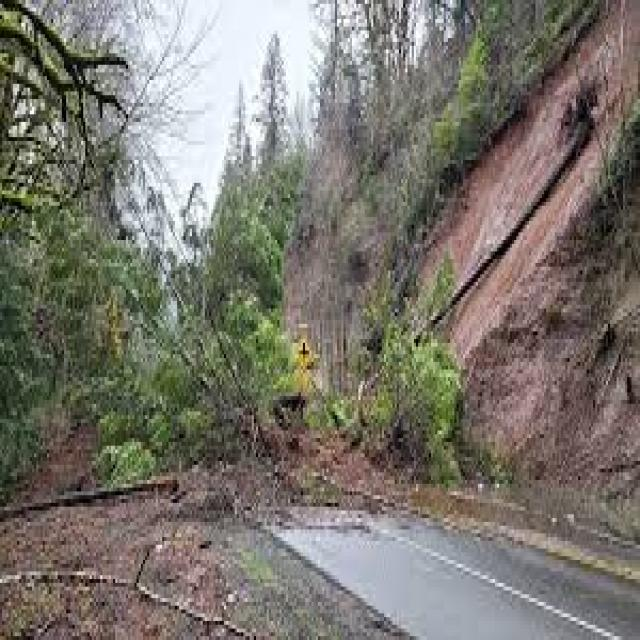landSliding: (82, 230, 506, 577)
